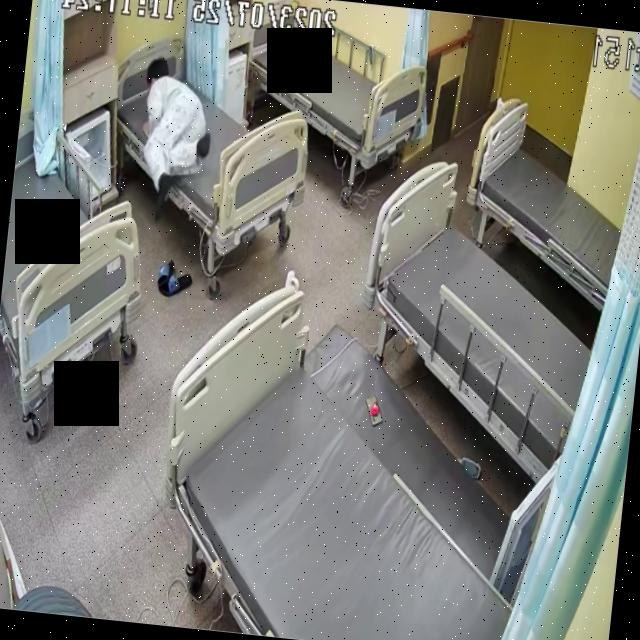bed: (154, 284, 542, 640), (351, 160, 614, 476), (0, 109, 155, 415), (105, 39, 319, 240), (457, 95, 635, 306), (240, 8, 427, 170)
danger: (136, 54, 218, 203)
patient: (136, 54, 218, 201)
